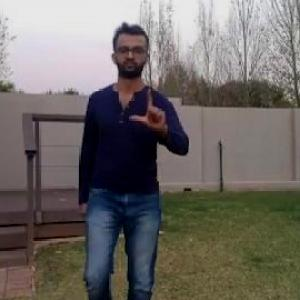land_hand: (130, 79, 172, 133)
